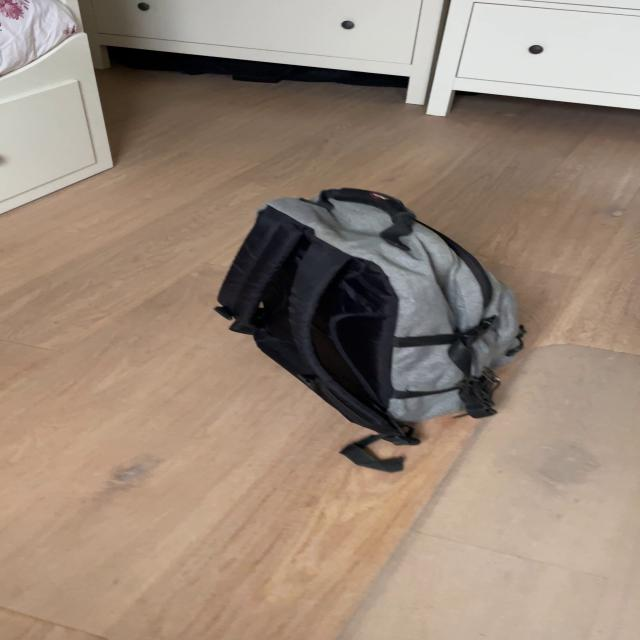backpack: (200, 173, 535, 441)
